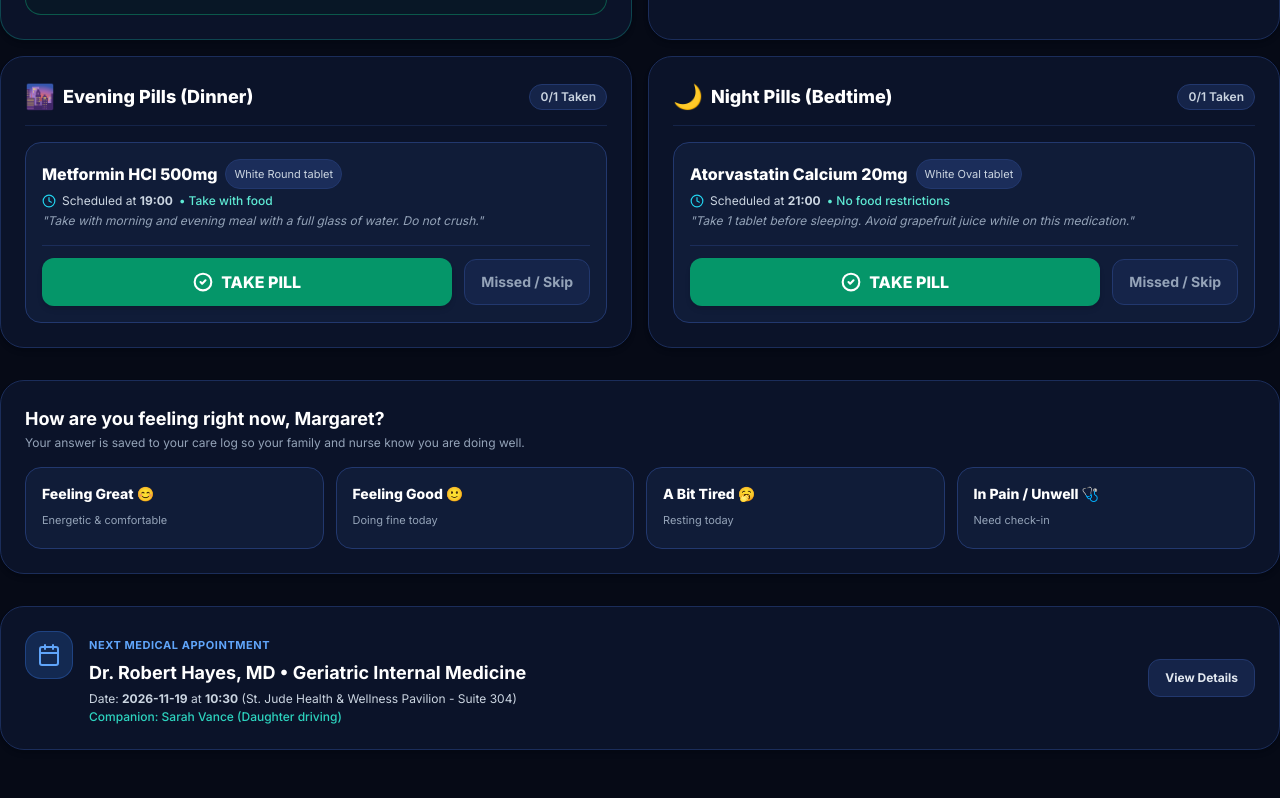
Senior Dashboard - PillBox Component Behavior › records daily mood check-in and provides immediate confirmation
(page scrolled)
Click the button "Feeling Great 😊 Energetic & comfortable" at (98, 494), box [25,467,324,549]
(page scrolled)
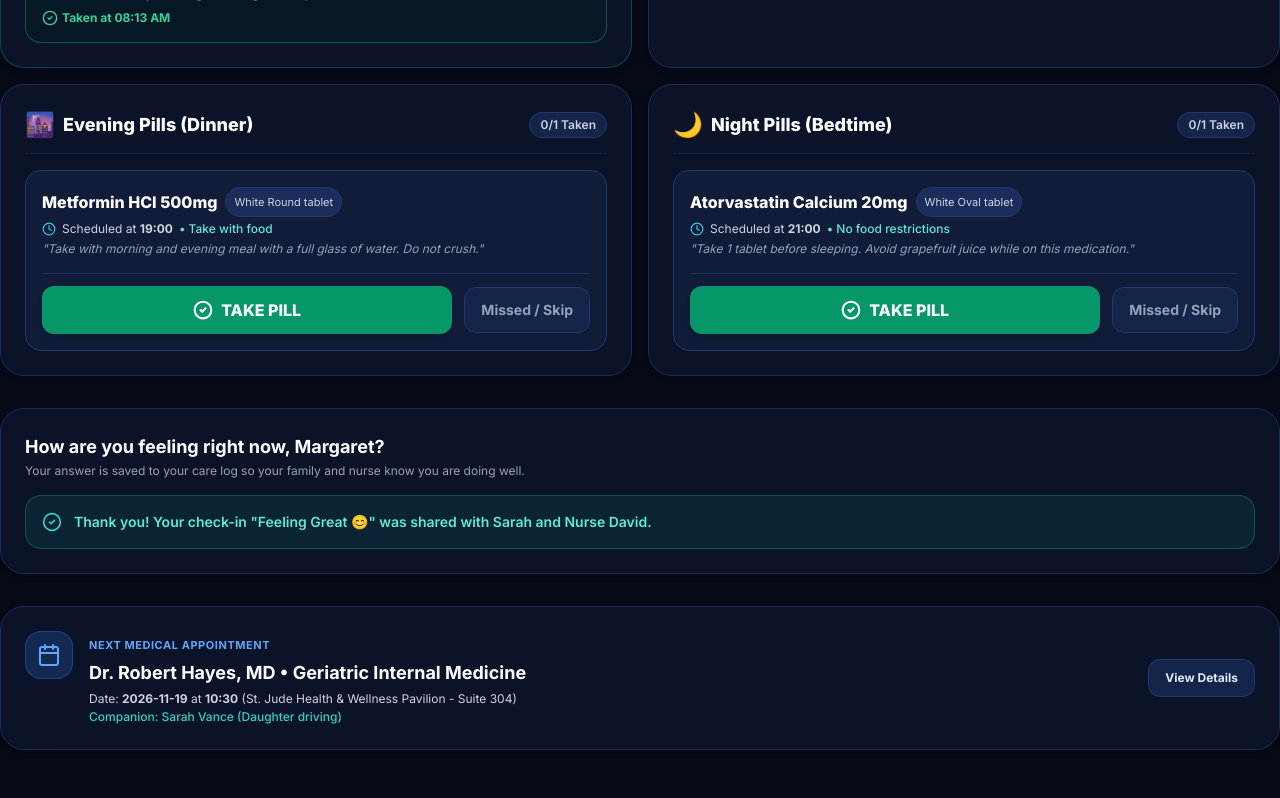
Now the text "Thank you! Your check-in \"Feeling Great 😊\" was shared" is shown, box [74,512,652,532]
